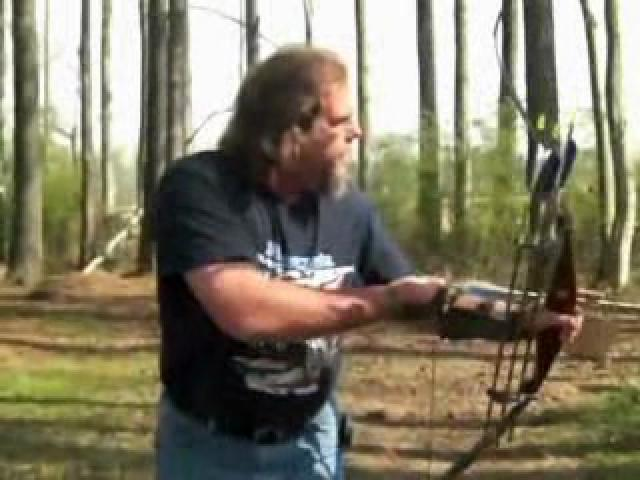I: (143, 35, 596, 480)
